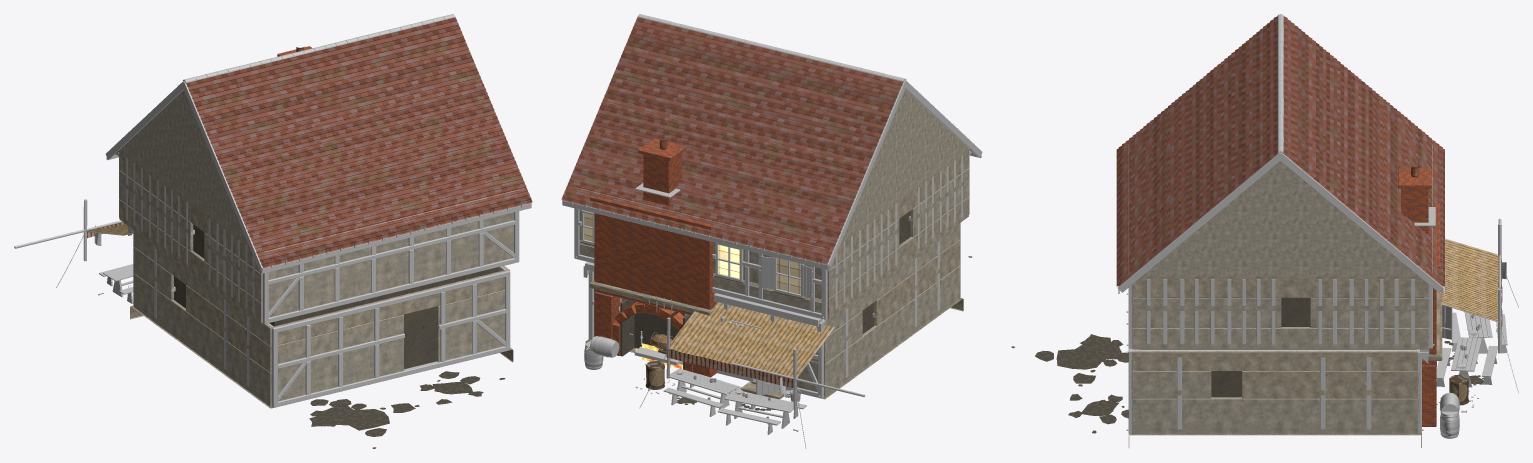
Rendered from chophouse.gltf.
3 views of the same model, side by side, from view 1: azimuth 30°, elevation 25°; view 2: azimuth 150°, elevation 25°; view 3: azimuth 270°, elevation 25° (orthographic). The views are drawn at different scales.
Visible parts, largest first — view 1: chophouse#0_n1, chophouse#0_0, chophouse#n1_0, chophouse#n1_n1; view 2: chophouse#0_n1, chophouse#n1_n1, chophouse#0_0; view 3: chophouse#0_n1, chophouse#n1_n1, chophouse#n1_0, chophouse#0_0.
Part boxes in pixels (box(x1,y1,x2,y2)): chophouse#0_n1: box(105, 14, 532, 407); chophouse#0_0: box(130, 224, 513, 408); chophouse#n1_0: box(309, 371, 505, 448); chophouse#n1_n1: box(14, 199, 133, 303); chophouse#0_n1: box(561, 14, 982, 425); chophouse#n1_n1: box(584, 256, 865, 448); chophouse#0_0: box(585, 211, 963, 399); chophouse#0_n1: box(1116, 14, 1478, 434); chophouse#n1_n1: box(1436, 219, 1518, 438); chophouse#n1_0: box(1011, 334, 1484, 433); chophouse#0_0: box(1128, 298, 1421, 448).
Size of the model in its own units: 13.28 by 11.08 by 16.73.
